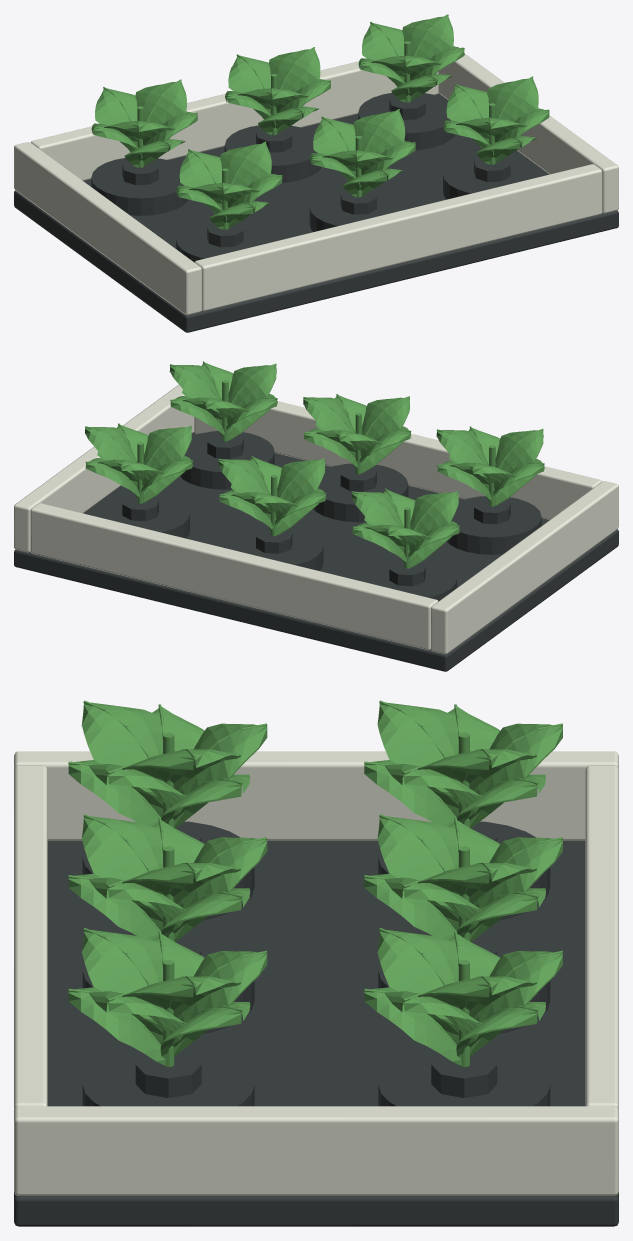
Rendered from generation-ship-hydroponics-generation-ship-hydroponic-cf064740__31468.glb.
3 views of the same model, one above another, from view 1: azimuth 30°, elevation 25°; view 2: azimuth 150°, elevation 25°; view 3: azimuth 270°, elevation 25° (orthographic). The views are drawn at different scales.
Visible parts, largest first — view 1: generation-ship-hydroponics-seedling-tray; view 2: generation-ship-hydroponics-seedling-tray; view 3: generation-ship-hydroponics-seedling-tray.
Part boxes in pixels (x1,y1,x2,y2): generation-ship-hydroponics-seedling-tray: (14,14,618,332); generation-ship-hydroponics-seedling-tray: (14,361,618,671); generation-ship-hydroponics-seedling-tray: (14,700,618,1226).
Bounding box in the file's own units: 0.65 × 0.1761 × 0.45.
